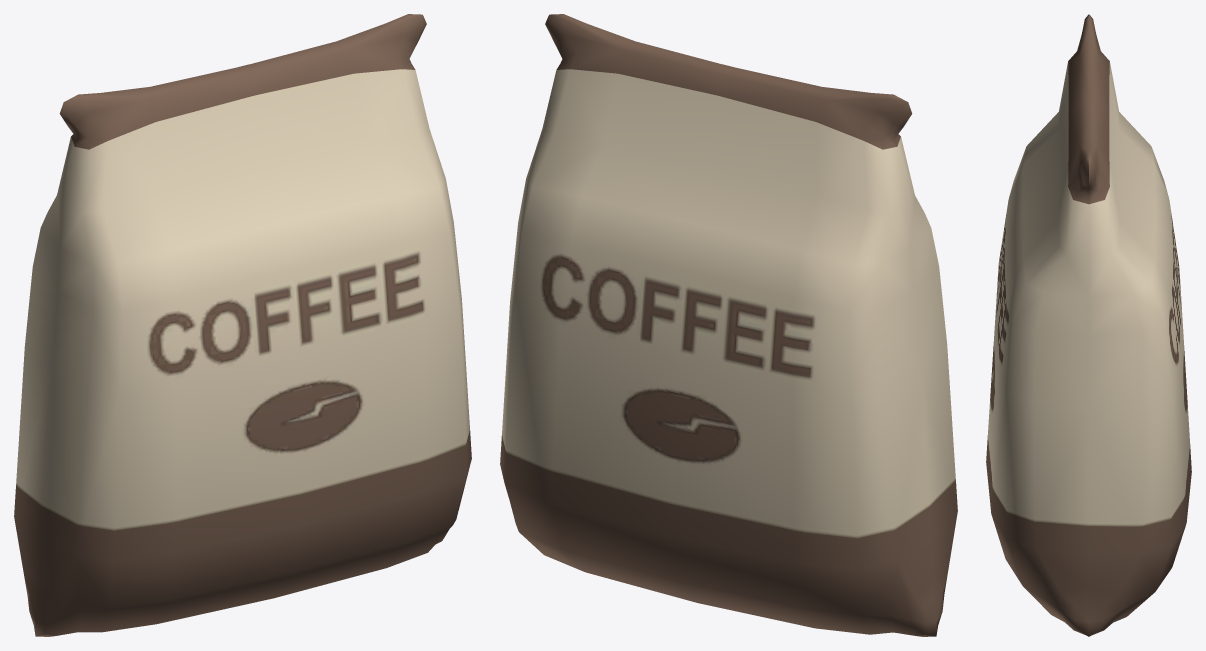
Rendered from CoffeeBag.fbx.
3 views of the same model, side by side, from view 1: azimuth 30°, elevation 25°; view 2: azimuth 150°, elevation 25°; view 3: azimuth 270°, elevation 25° (orthographic). The views are drawn at different scales.
Parts seen in each view (by area): view 1: BagOfStuff; view 2: BagOfStuff; view 3: BagOfStuff.
Boxes of the visible parts, <box> form: BagOfStuff: <box>14,14,471,636</box>; BagOfStuff: <box>500,14,957,636</box>; BagOfStuff: <box>986,14,1191,636</box>.
Size of the model in its own units: 0.6883 by 0.8615 by 0.3415.
